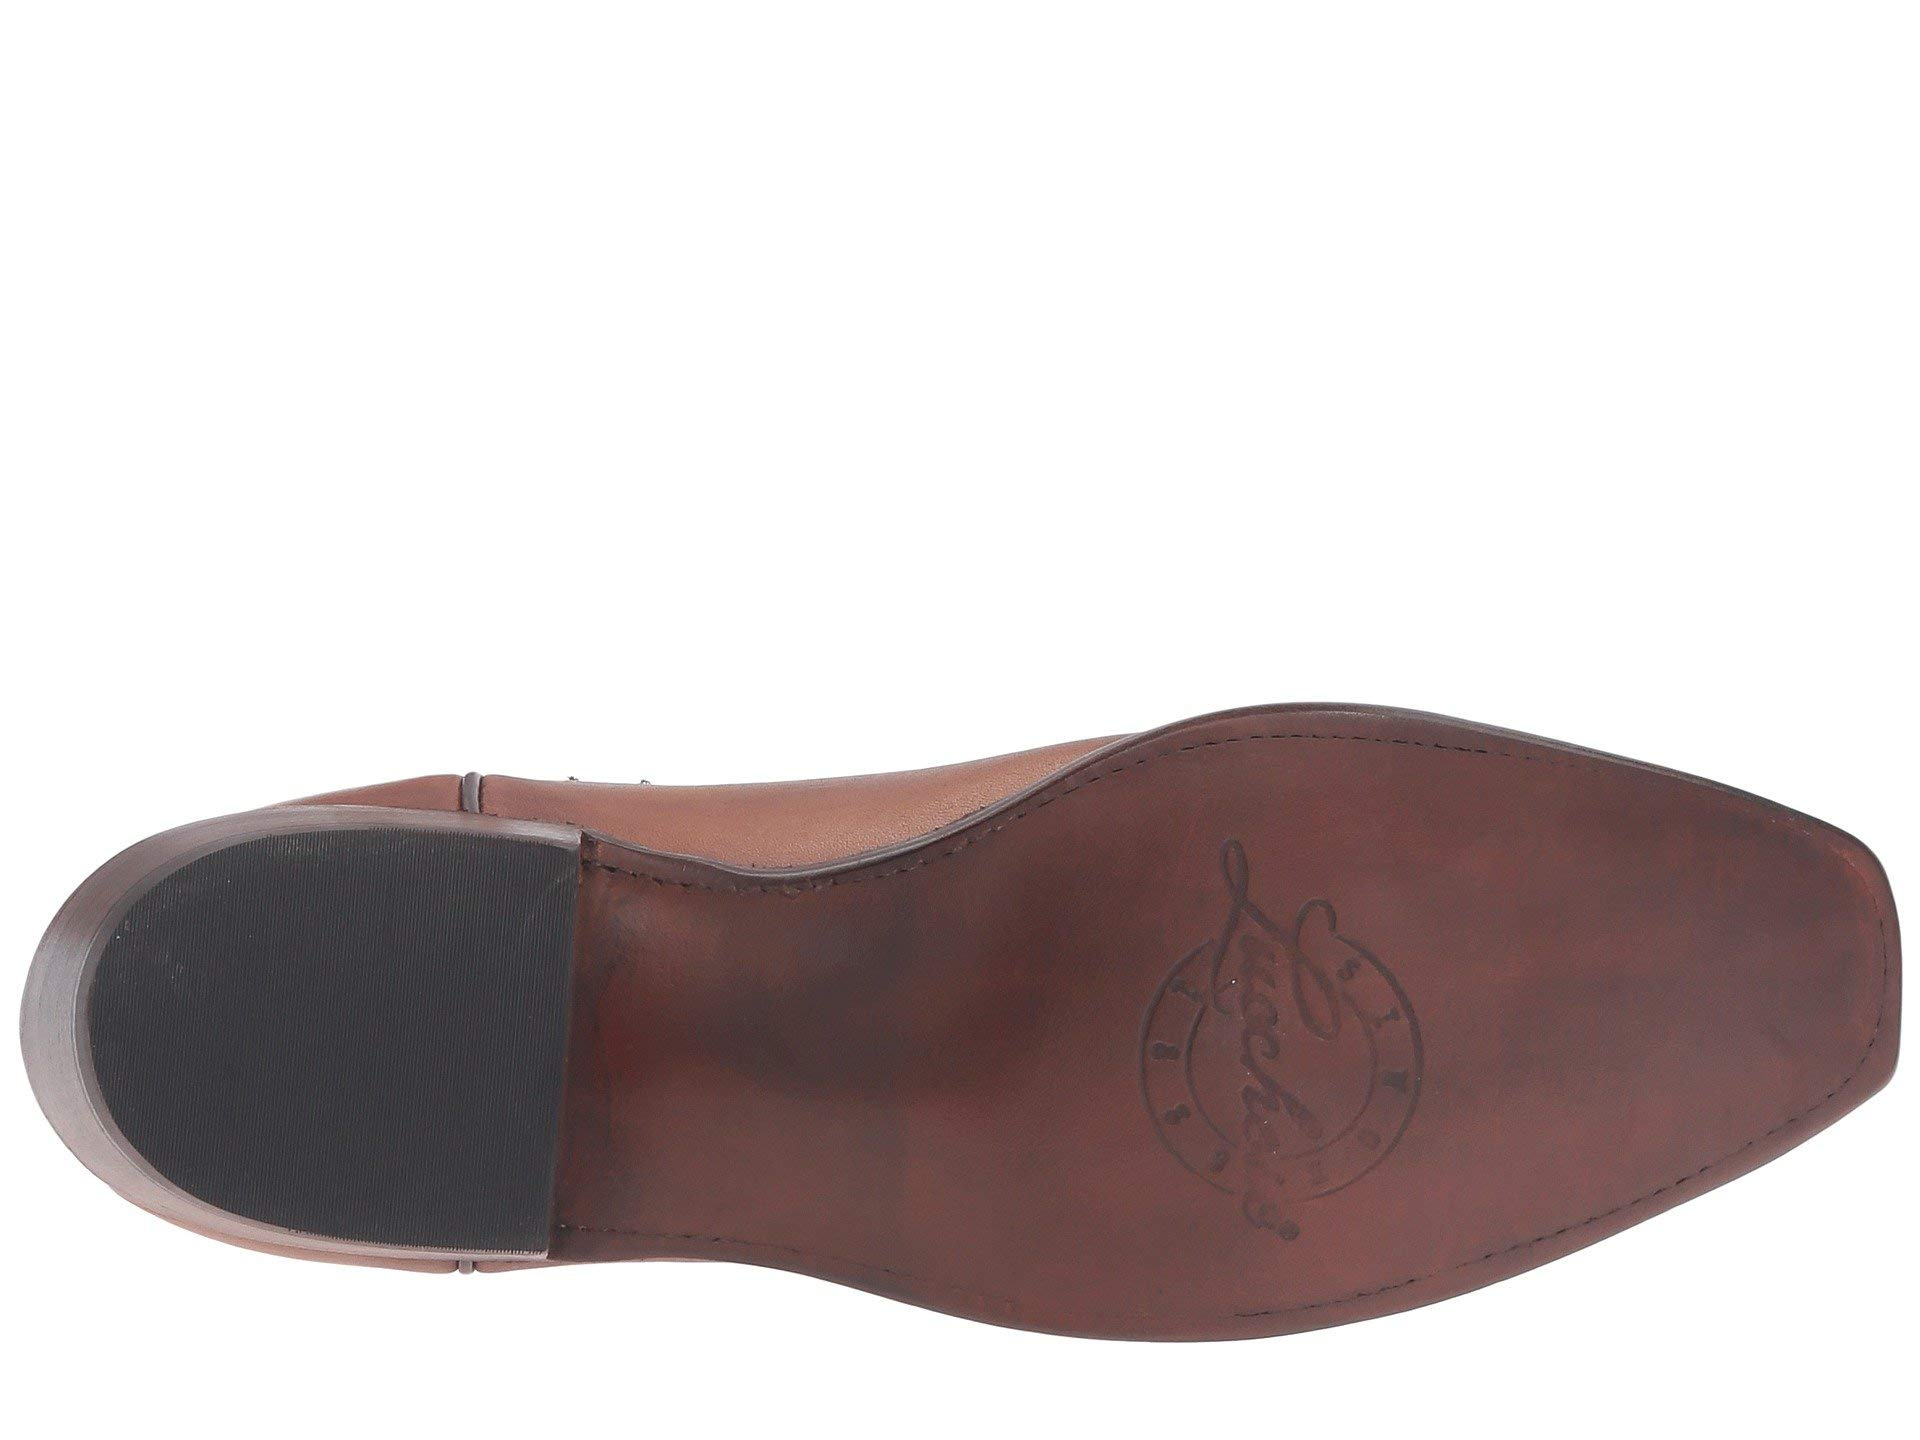line: (85, 827, 568, 1240)
text: (1076, 827, 1480, 1262)
